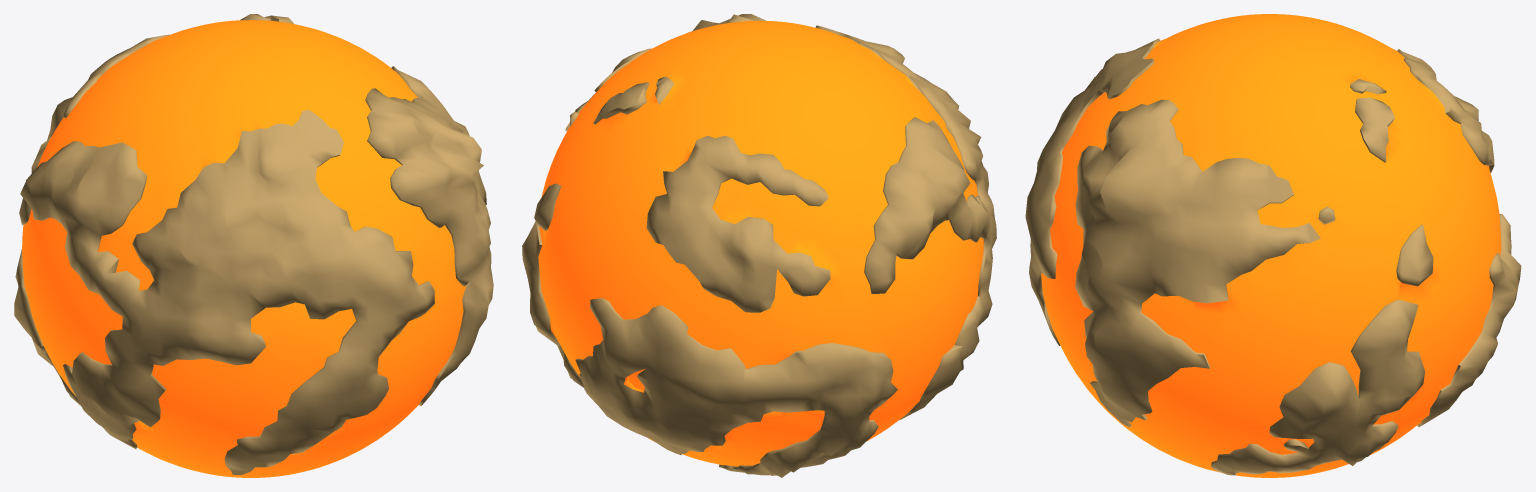
Rendered from Moon.fbx.
3 renders of one model, left to right at view 1: azimuth 30°, elevation 25°; view 2: azimuth 150°, elevation 25°; view 3: azimuth 270°, elevation 25°, orthographic. The views are drawn at different scales.
Visible parts, largest first — view 1: MoonBig; view 2: MoonBig; view 3: MoonBig.
Boxes of the visible parts, x1,y1,x2,y2 form: MoonBig: (14, 14, 493, 477); MoonBig: (522, 14, 996, 477); MoonBig: (1025, 14, 1521, 477).
Size of the model in its own units: 40203 by 38994 by 41673.
